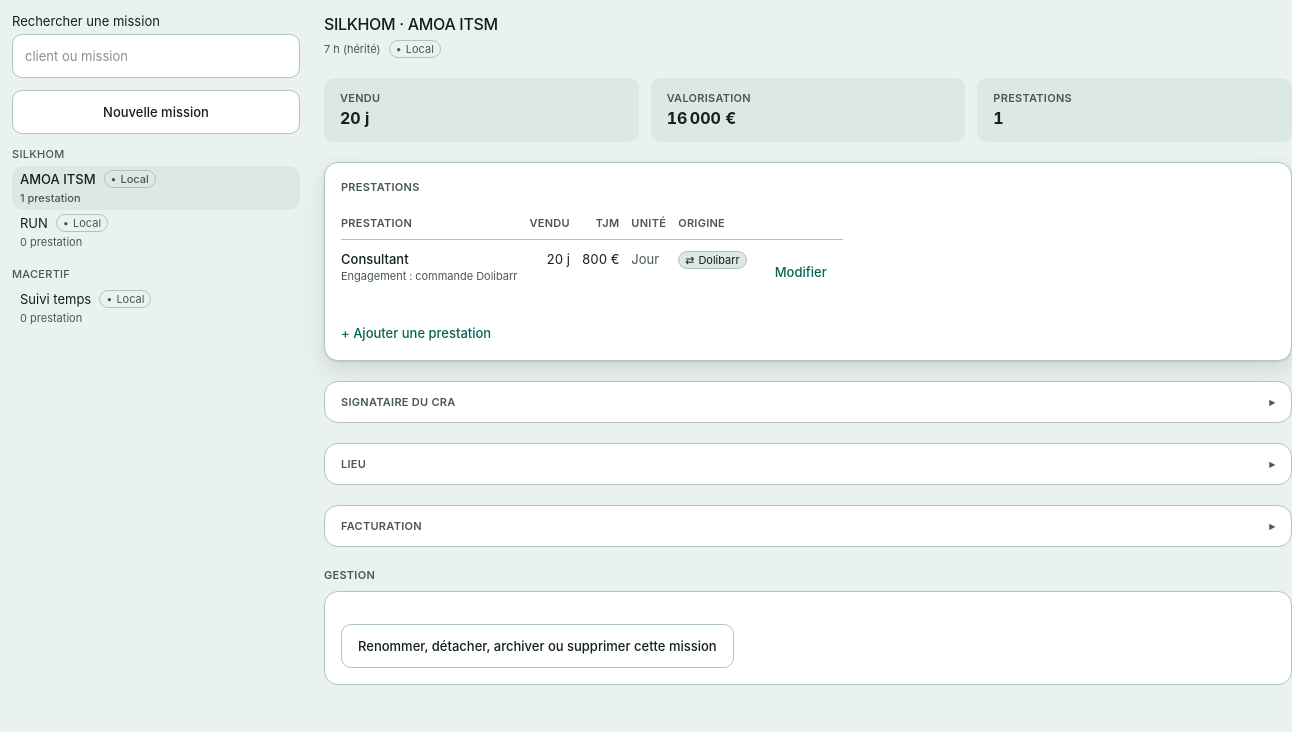
Test: MissionsExplorer — le détail › change de mission sans quitter la page
What coordinates should you click on to do the following:
click the button "Suivi temps • Local 0 prestation"
I would click on:
 (56, 299)
Its box is [12,286,300,330].
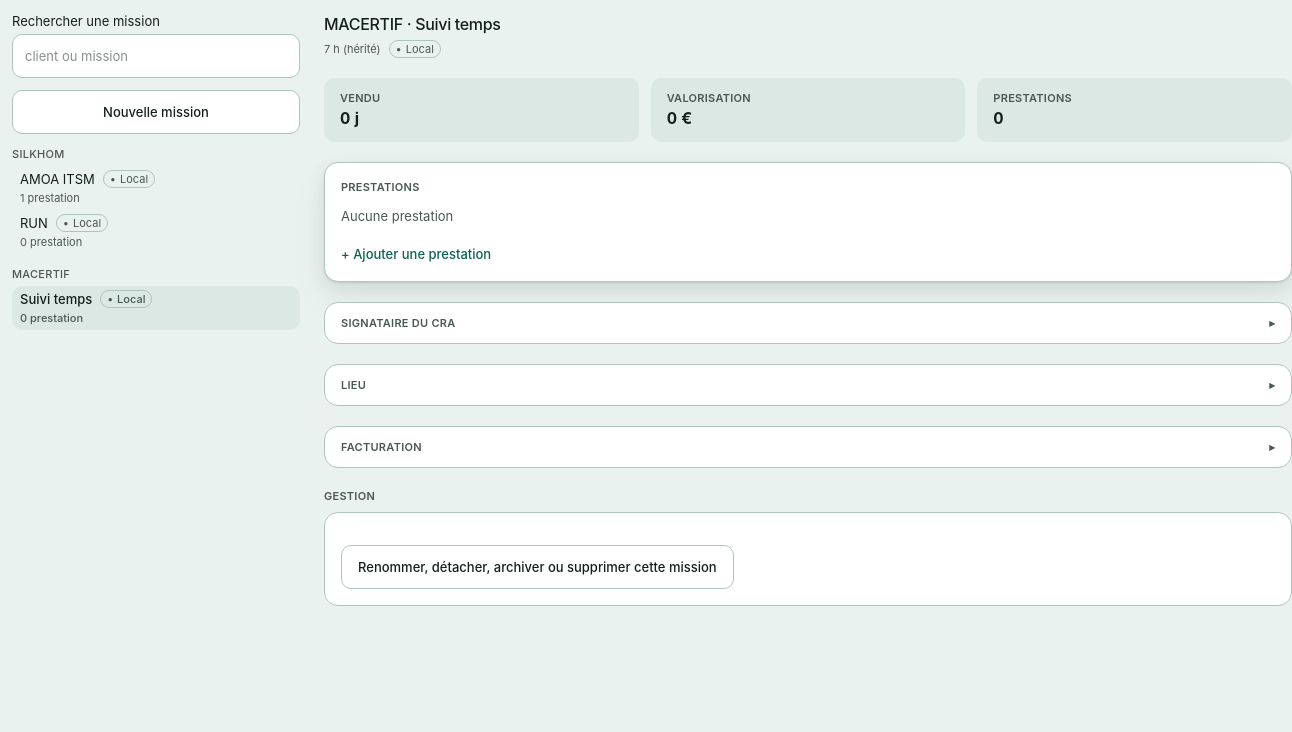
Expected: the heading "MACERTIF · Suivi temps" is shown, [324,14,501,34]
